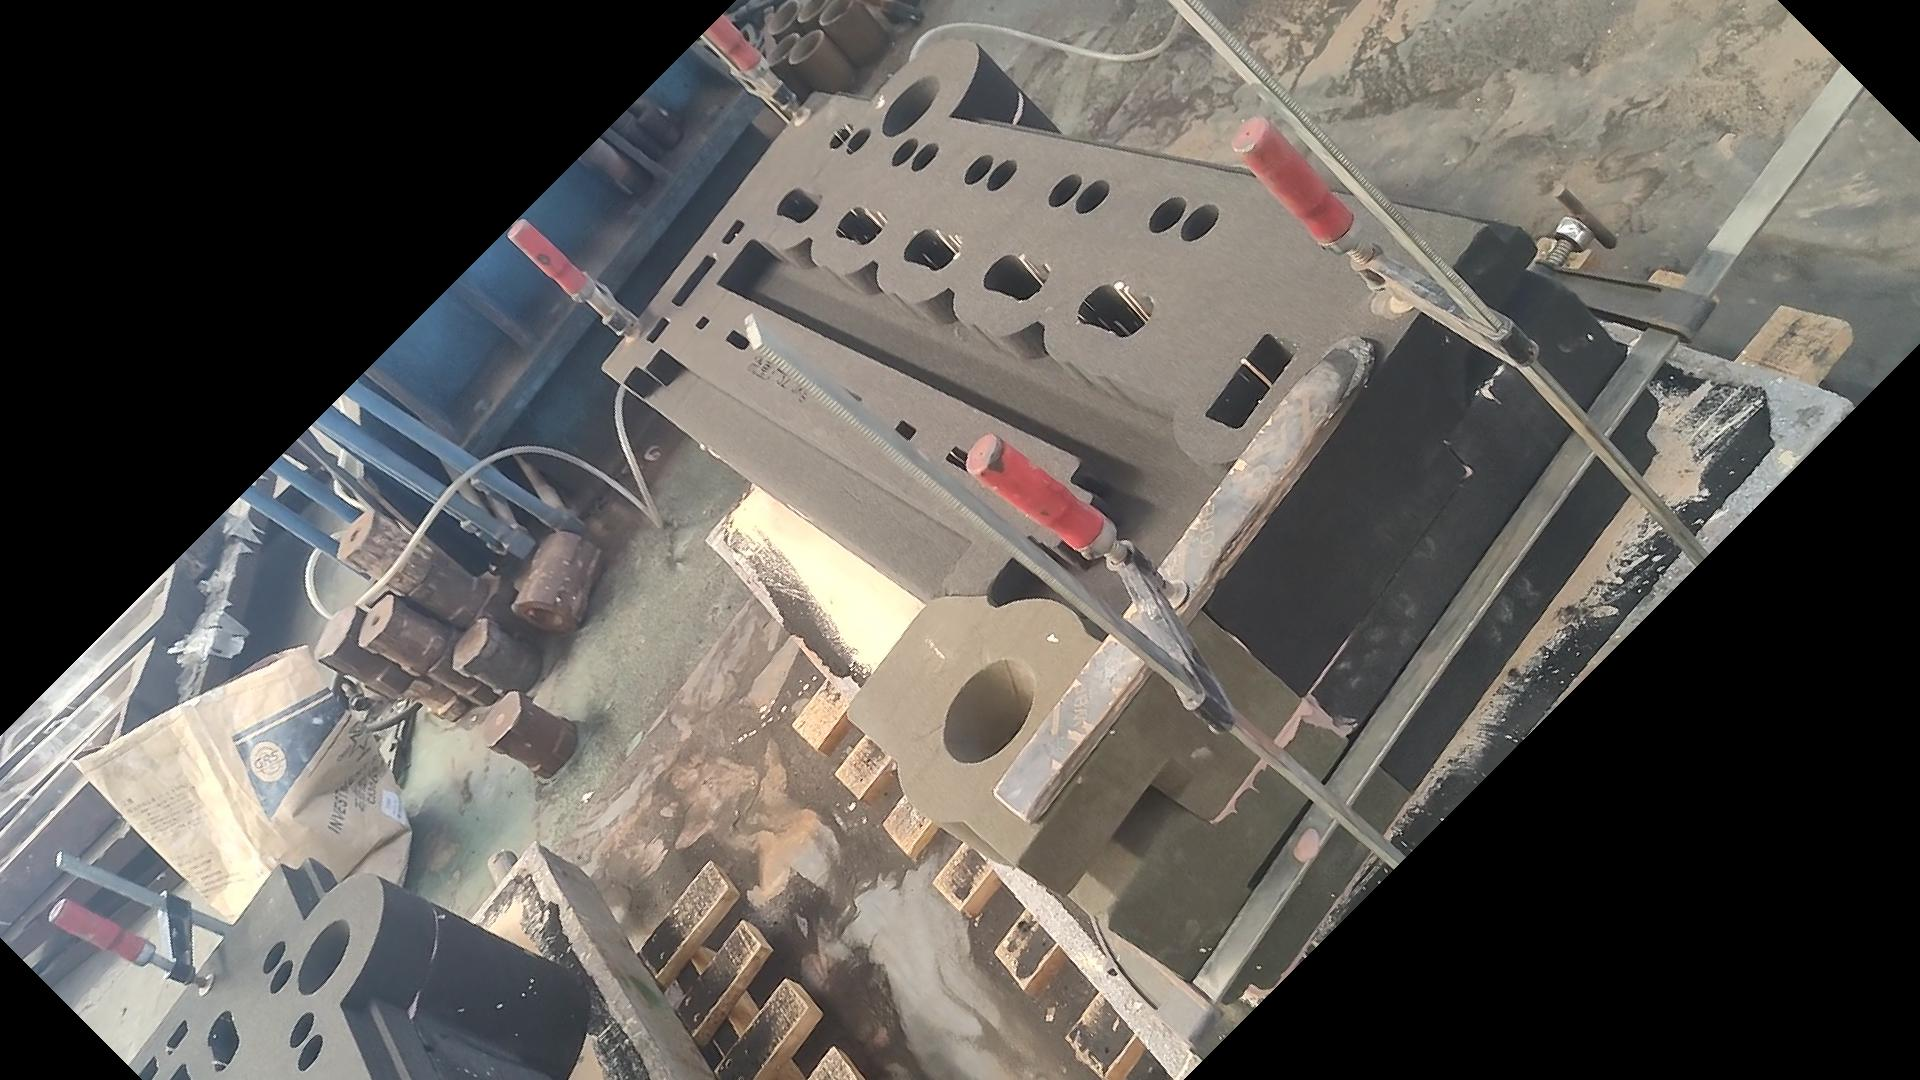pouring hole: (943, 655, 1038, 764), (295, 914, 351, 996), (880, 73, 942, 136), (764, 32, 799, 66), (790, 30, 823, 66), (767, 1, 799, 32), (820, 1, 853, 25), (796, 1, 829, 24)
